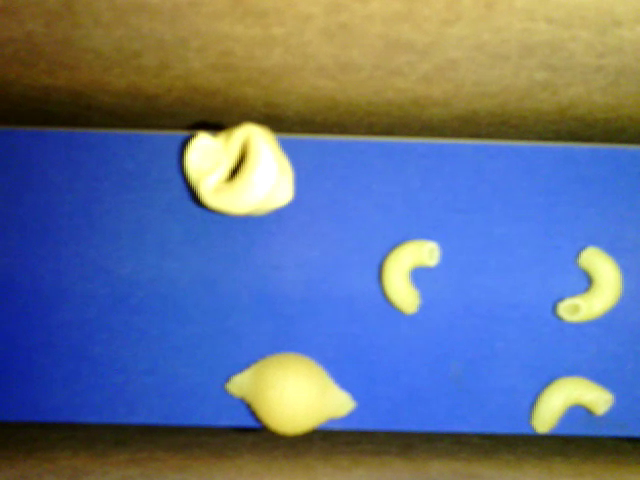elbow: (555, 245, 623, 324), (530, 375, 614, 435), (379, 237, 441, 316)
shell: (225, 352, 359, 435)
tortellini: (184, 121, 296, 216)
